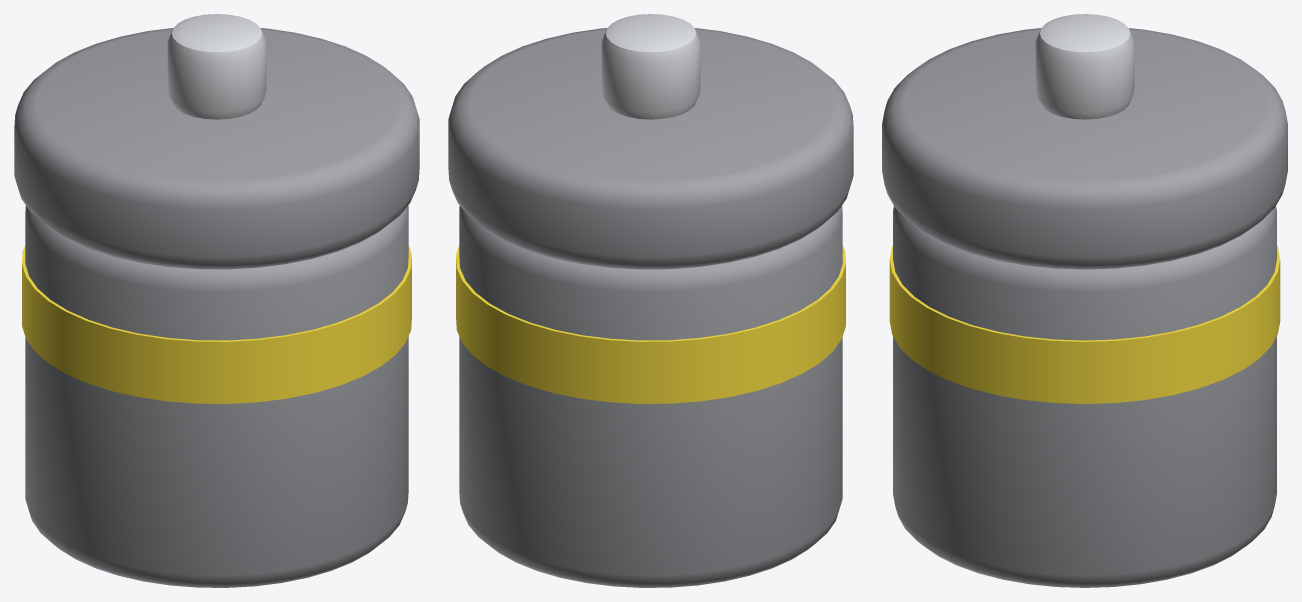
The model's file is LeadPig.fbx.
3 renders of one model, left to right at view 1: azimuth 30°, elevation 25°; view 2: azimuth 150°, elevation 25°; view 3: azimuth 270°, elevation 25°, orthographic.
Visible parts, largest first — view 1: LP_Body, LP_Lid, LP_Band, LP_Knob; view 2: LP_Body, LP_Lid, LP_Band, LP_Knob; view 3: LP_Body, LP_Lid, LP_Band, LP_Knob.
Part boxes in pixels (x1,y1,x2,y2): LP_Body: [25, 205, 408, 587]; LP_Lid: [14, 28, 419, 269]; LP_Band: [22, 245, 411, 403]; LP_Knob: [167, 14, 266, 119]; LP_Body: [459, 205, 842, 587]; LP_Lid: [448, 28, 853, 269]; LP_Band: [456, 245, 845, 403]; LP_Knob: [601, 14, 700, 119]; LP_Body: [893, 206, 1276, 587]; LP_Lid: [882, 28, 1287, 269]; LP_Band: [889, 245, 1280, 403]; LP_Knob: [1035, 14, 1134, 119].
Size of the model in its own units: 0.148 by 0.195 by 0.148.
